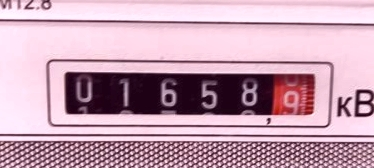0: (74, 72, 94, 102)
1: (117, 75, 134, 107)
5: (199, 77, 220, 108)
6: (159, 74, 179, 107)
8: (240, 74, 260, 106)
9: (280, 88, 301, 116)
screen: (38, 50, 338, 133)
